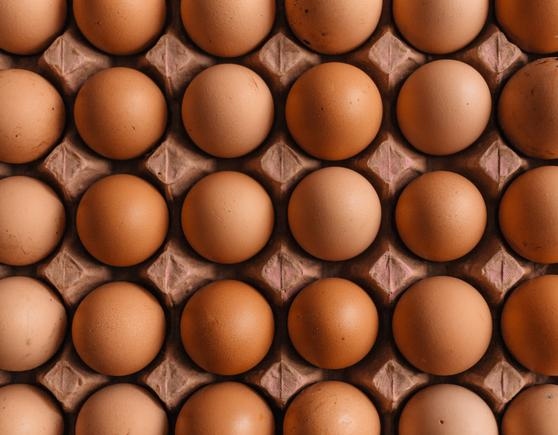egg: (394, 272, 495, 377), (390, 57, 494, 152), (179, 62, 273, 158), (181, 170, 272, 260)
